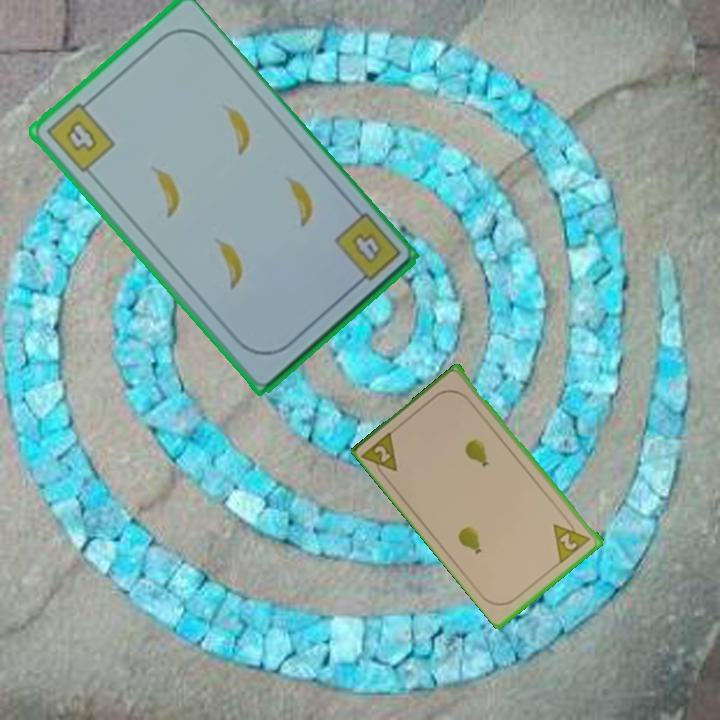2p: (359, 427, 401, 483), (550, 513, 594, 565)
4b: (42, 95, 118, 177), (330, 209, 404, 291)
